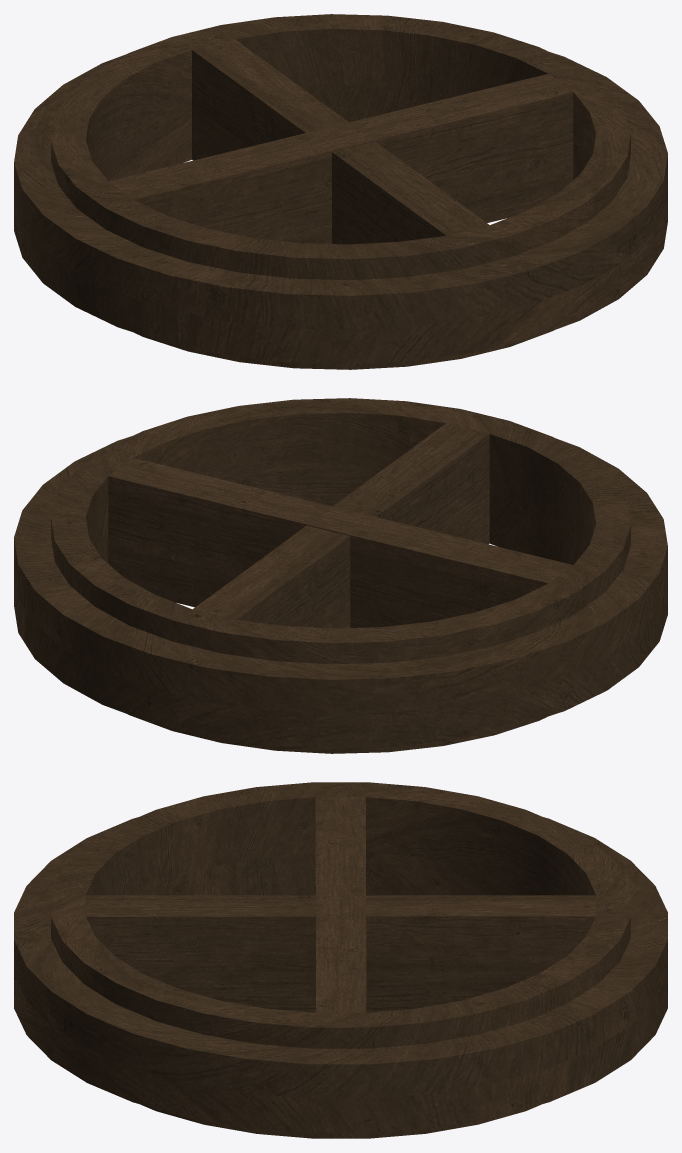
File: yuvarlakCam.fbx
3 renders of one model, top to bottom at view 1: azimuth 30°, elevation 25°; view 2: azimuth 150°, elevation 25°; view 3: azimuth 270°, elevation 25°, orthographic.
Parts seen in each view (by area): view 1: Circle.001; view 2: Circle.001; view 3: Circle.001.
Boxes of the visible parts, left/top/right/bottom form: Circle.001: left=14, top=14, right=667, bottom=369; Circle.001: left=14, top=398, right=667, bottom=753; Circle.001: left=14, top=782, right=667, bottom=1138.
Bounding box in the file's own units: 259 × 48.51 × 259.
Materials: 1 (1 with a texture image).
